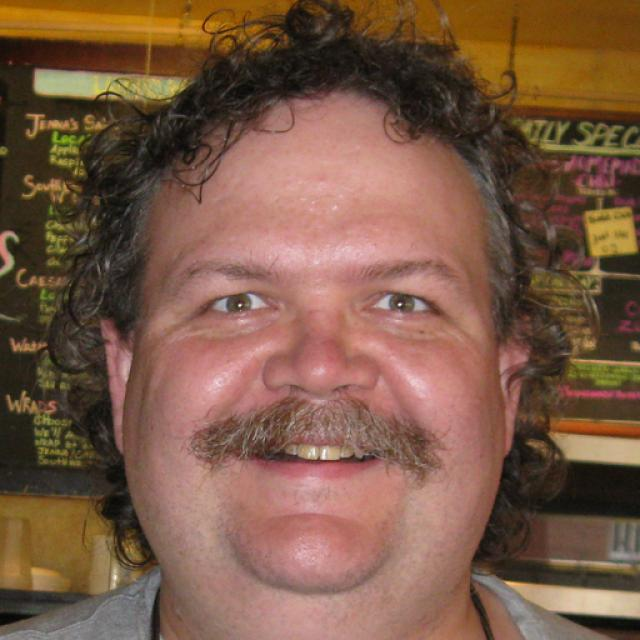Acne: (313, 168, 334, 196), (321, 195, 343, 215)
